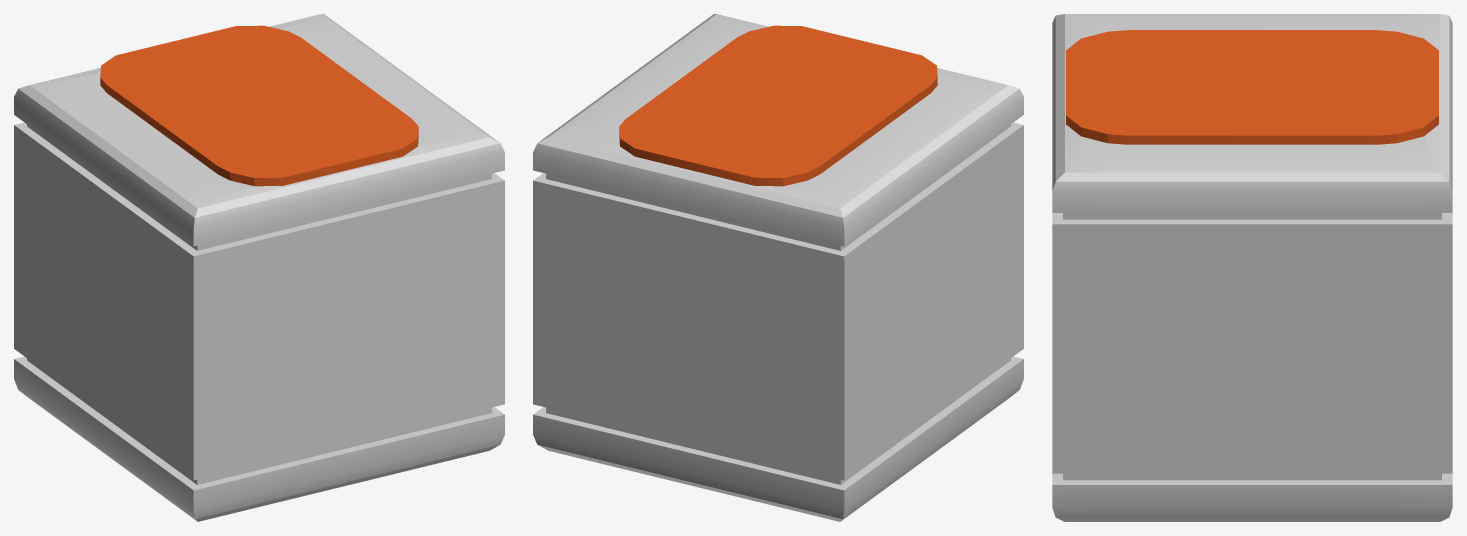
Rendered from cuttingstation.fbx.
3 renders of one model, left to right at view 1: azimuth 30°, elevation 25°; view 2: azimuth 150°, elevation 25°; view 3: azimuth 270°, elevation 25°, orthographic. The views are drawn at different scales.
Parts seen in each view (by area): view 1: Cube; view 2: Cube; view 3: Cube.
Part boxes in pixels (box(x1,y1,x2,y2)): Cube: box(14, 14, 504, 521); Cube: box(533, 14, 1023, 521); Cube: box(1052, 14, 1452, 521).
Bounding box in the file's own units: 200 × 200 × 200.
